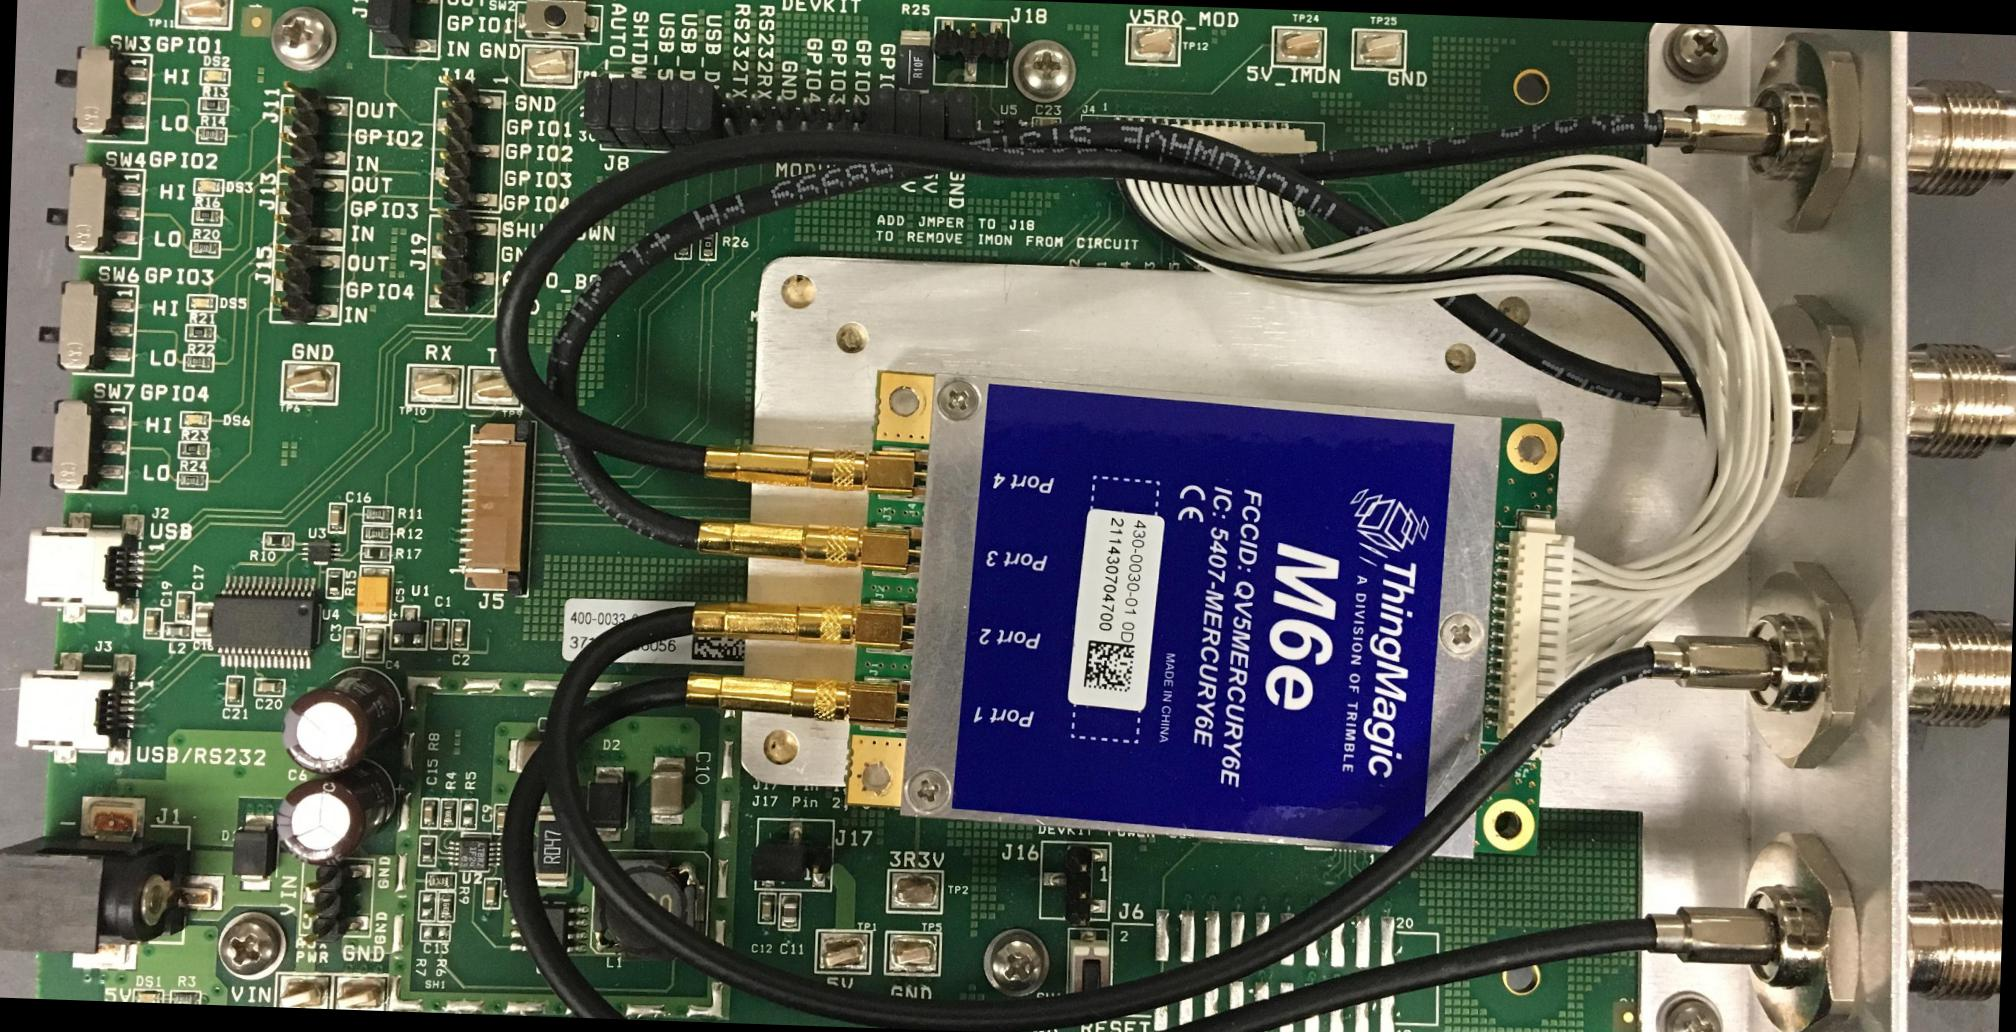Button: (513, 0, 603, 43)
Capacitor: (650, 756, 686, 824), (507, 738, 574, 771), (779, 892, 800, 931), (388, 466, 411, 502), (193, 602, 212, 641), (482, 875, 501, 908), (326, 500, 346, 533), (254, 677, 286, 696), (224, 674, 243, 706), (175, 590, 193, 623), (143, 607, 162, 638), (430, 617, 449, 649), (451, 617, 468, 650), (421, 796, 438, 829), (342, 627, 361, 657), (492, 803, 509, 835), (758, 890, 775, 921), (1036, 115, 1061, 125)
Connector: (1721, 549, 2015, 781), (1726, 280, 2015, 509), (1709, 821, 2005, 1031), (1738, 28, 2015, 251), (0, 788, 226, 974), (1487, 508, 1576, 745), (696, 507, 920, 573), (701, 437, 928, 502), (14, 648, 134, 766), (455, 417, 534, 595), (686, 666, 909, 728), (25, 508, 142, 625), (692, 599, 926, 656), (1080, 117, 1325, 162), (430, 86, 505, 212), (718, 90, 870, 143), (425, 215, 500, 317), (279, 83, 349, 171), (1037, 845, 1112, 925), (270, 246, 343, 325), (301, 858, 372, 940), (276, 168, 347, 246), (934, 16, 1008, 90), (807, 819, 836, 892)
Diode: (232, 813, 276, 891), (586, 763, 629, 841)
Electrolytic Capacitor: (283, 663, 401, 774), (275, 771, 393, 866), (359, 570, 393, 628)
IC: (915, 370, 1490, 860), (212, 574, 320, 669), (449, 836, 501, 871), (390, 604, 429, 649), (299, 540, 342, 563), (1001, 117, 1022, 141)
Inductor: (591, 849, 709, 957), (162, 623, 193, 640)
Jumper: (368, 0, 442, 59), (753, 817, 807, 890), (608, 76, 646, 149), (687, 76, 724, 150), (634, 76, 671, 149), (583, 75, 620, 147), (659, 78, 696, 150), (942, 87, 974, 142), (894, 90, 919, 138), (919, 91, 944, 140), (869, 91, 894, 134)
Led: (186, 291, 218, 312), (192, 176, 225, 196), (178, 409, 211, 428), (200, 67, 230, 83), (132, 989, 163, 1002)
Pads: (1111, 906, 1441, 1031), (459, 796, 478, 831), (420, 889, 437, 921), (418, 924, 451, 941)
Resistor Network: (536, 806, 571, 886), (897, 30, 934, 91), (416, 835, 437, 867), (175, 470, 208, 491), (325, 566, 345, 599), (178, 440, 211, 459), (262, 530, 293, 550), (440, 796, 459, 828), (196, 124, 228, 143), (674, 226, 693, 258), (697, 229, 717, 261), (188, 238, 220, 258), (196, 96, 229, 115), (362, 524, 392, 544), (361, 545, 392, 563), (425, 871, 457, 890), (186, 322, 217, 341), (1080, 58, 1097, 91), (191, 208, 224, 225), (362, 504, 392, 523), (183, 354, 214, 371), (170, 989, 200, 1003)
Switch: (51, 43, 150, 142), (36, 278, 136, 375), (30, 396, 130, 494), (43, 161, 142, 258), (1065, 928, 1113, 1015)
Test Point: (279, 361, 338, 404), (815, 928, 871, 973), (892, 866, 946, 912), (896, 940, 951, 985), (1271, 25, 1325, 67), (1351, 29, 1407, 70), (1128, 22, 1179, 66), (333, 974, 388, 1010), (275, 974, 333, 1007)
Transistor: (508, 899, 588, 964)
